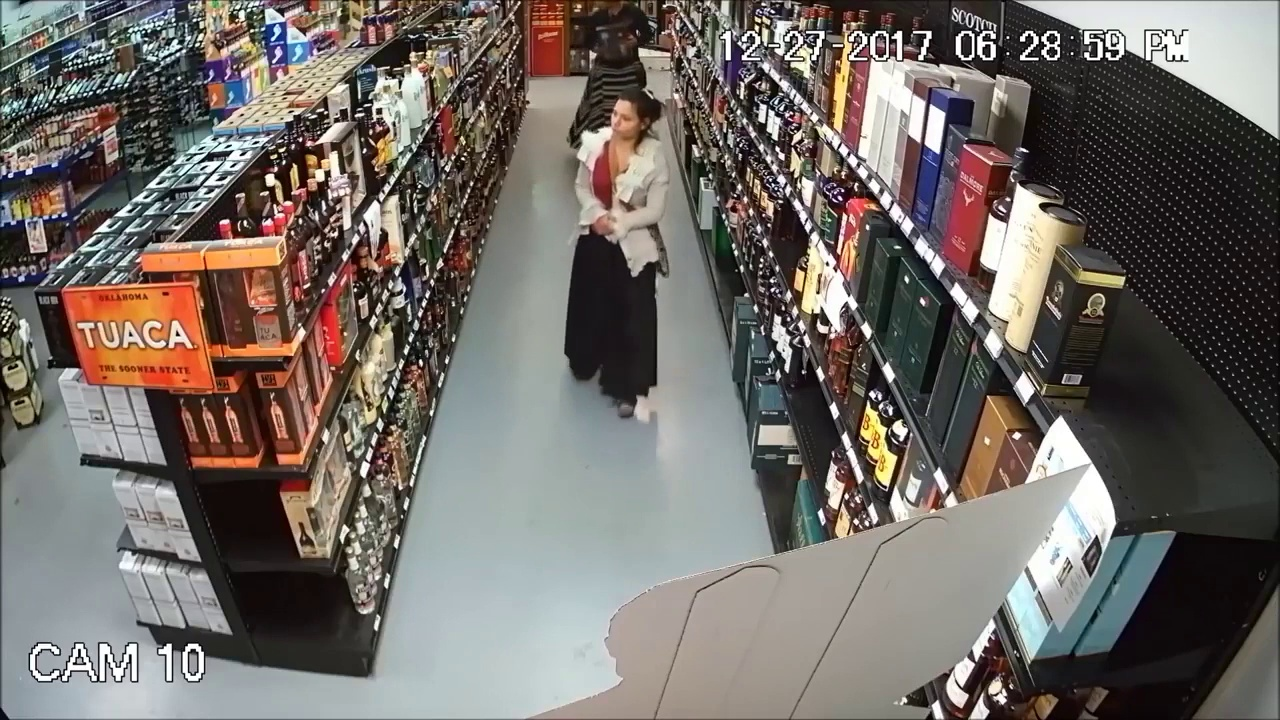face: (601, 100, 656, 148)
